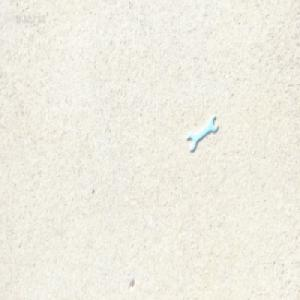Wrench: (186, 116, 218, 151)
